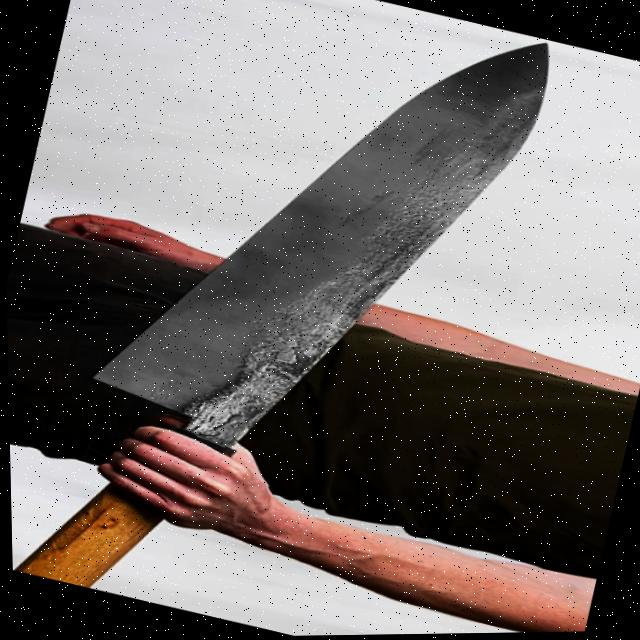knife: (0, 0, 567, 640)
